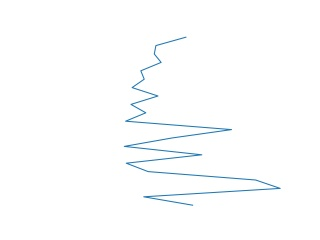crevasseRiverBedLagDeposit: (122, 36, 285, 209)
